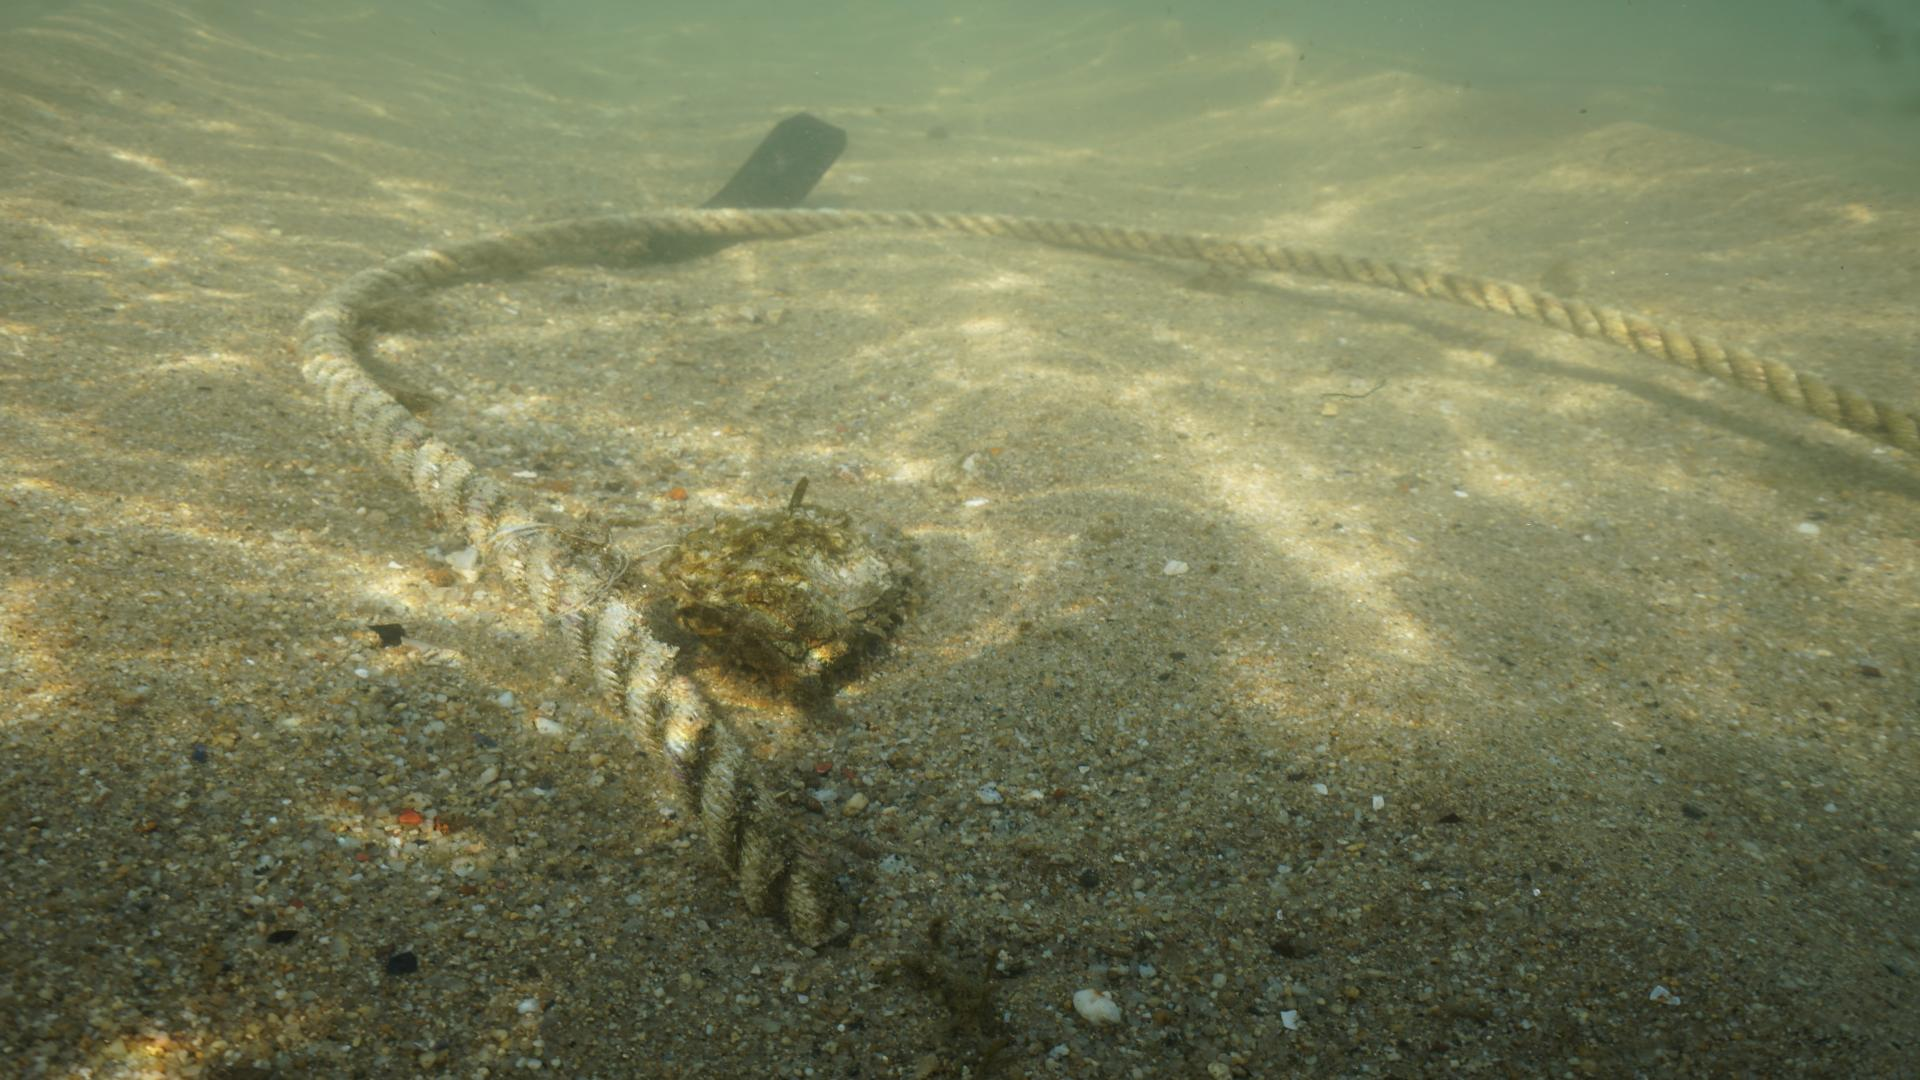rope: (280, 189, 1920, 949)
